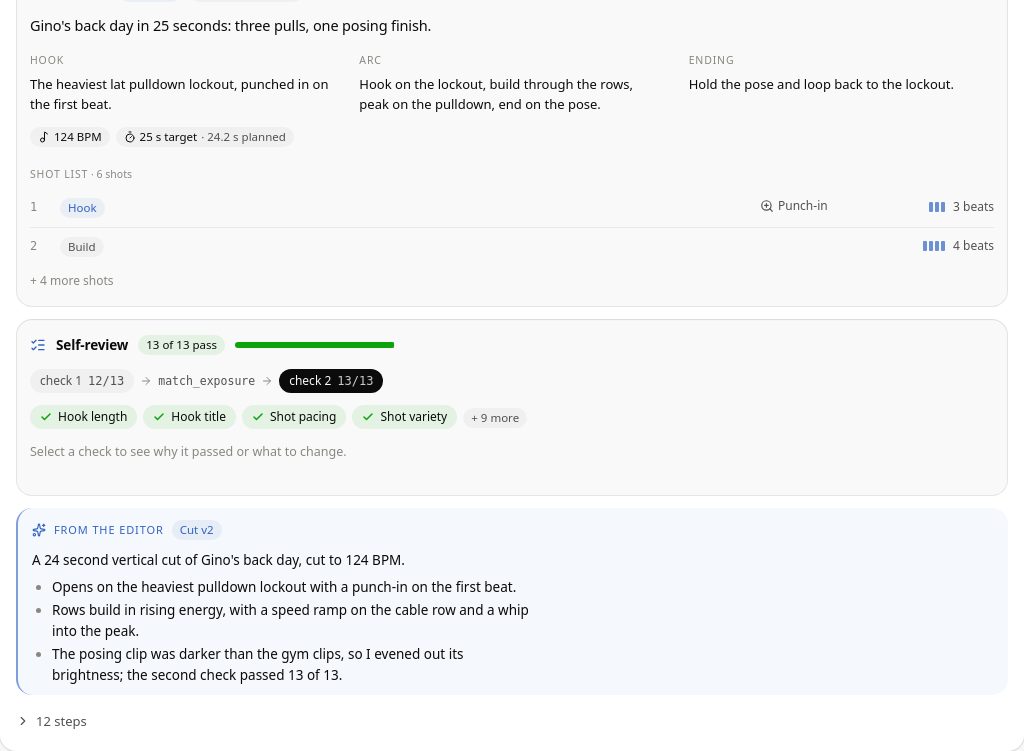
Test: a finished run folds its steps away, and they open to the timeline of what the editor did
(page scrolled)
Click the heading "12 steps".
click(51, 722)  # box x1=16 y1=712 x2=87 y2=730
(page scrolled)
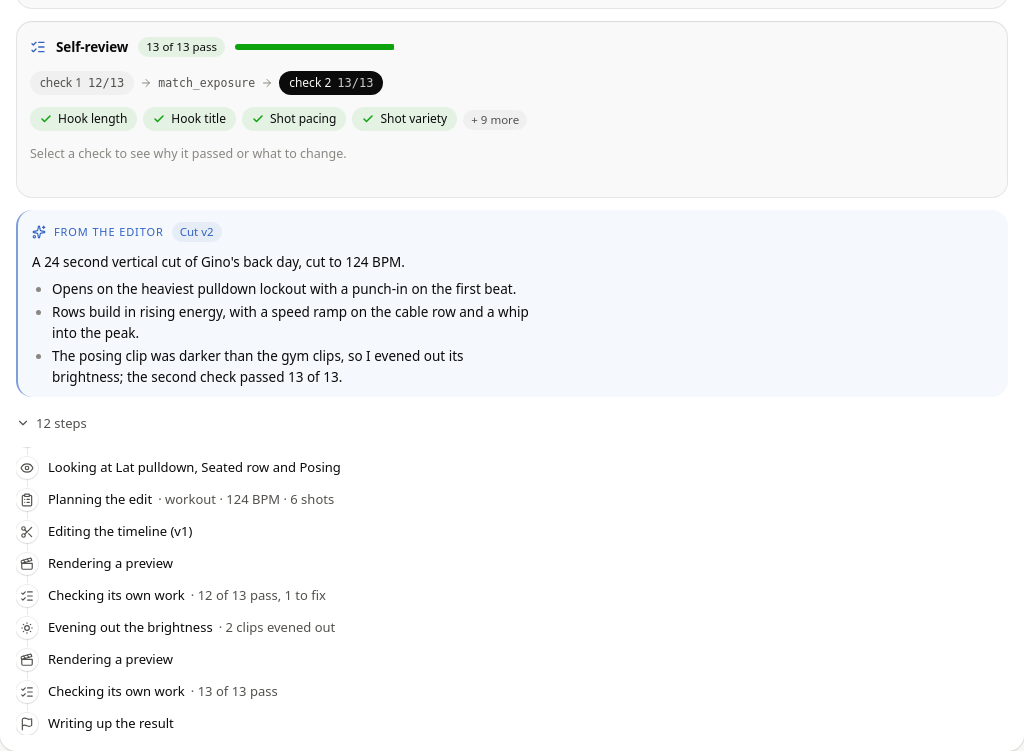
Result: the text "Looking at Lat pulldown, Seated row and Posing" is shown at x1=48 y1=456 x2=341 y2=480
Result: the text "· 12 of 13 pass, 1 to fix" is shown at x1=191 y1=586 x2=326 y2=604
